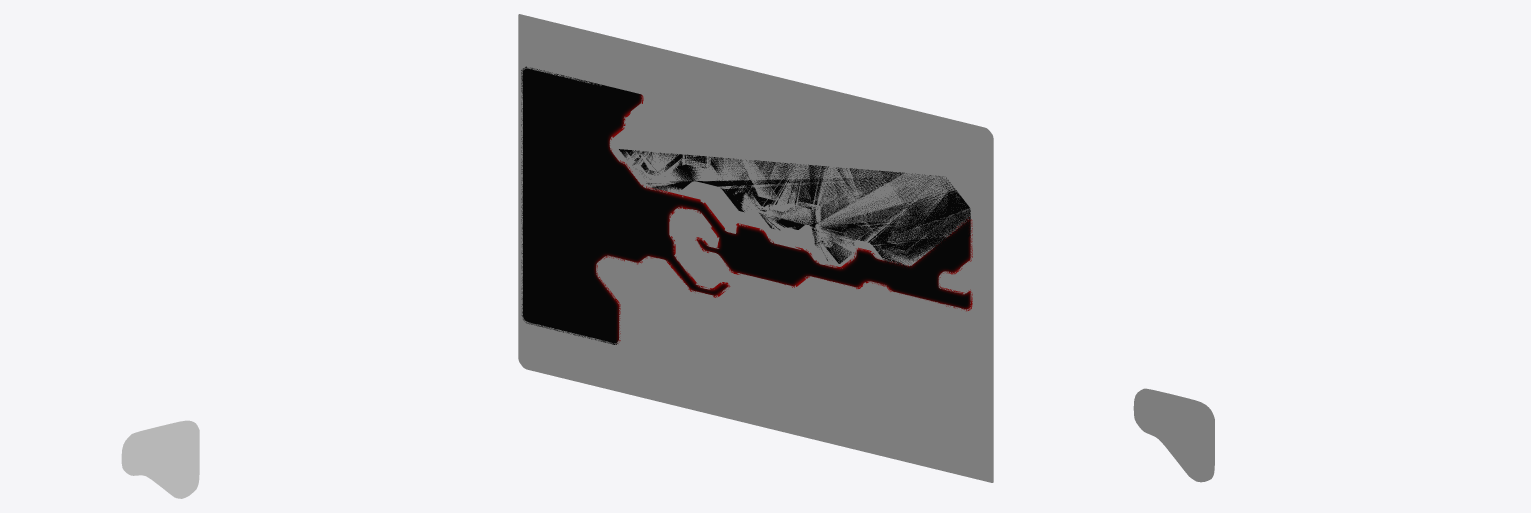
File: Vancouver.glb
3 renders of one model, left to right at view 1: azimuth 30°, elevation 25°; view 2: azimuth 150°, elevation 25°; view 3: azimuth 330°, elevation 25°, orthographic. The views are drawn at different scales.
Visible parts, largest first — view 1: MSH_Map_Grass_Middle_05 (1); view 2: Vancouver_land, Water, Vancouver_mount_mask, MSH_MAP_Vancouver_Mountain_Shadow, Vancouver_mount_top, Vancouver_grass, Vancouver_mount_bottom, MSH_Map_Grass_Middle_03; view 3: MSH_Map_Grass_Middle_05 (1).
Boxes of the visible parts, left/top/right/bottom form: MSH_Map_Grass_Middle_05 (1): left=121, top=420, right=199, bottom=498; Vancouver_land: left=518, top=14, right=993, bottom=482; Water: left=521, top=66, right=972, bottom=344; Vancouver_mount_mask: left=617, top=104, right=954, bottom=255; MSH_MAP_Vancouver_Mountain_Shadow: left=619, top=149, right=970, bottom=273; Vancouver_mount_top: left=632, top=115, right=947, bottom=245; Vancouver_grass: left=624, top=205, right=886, bottom=367; Vancouver_mount_bottom: left=617, top=104, right=955, bottom=256; MSH_Map_Grass_Middle_03: left=807, top=278, right=834, bottom=321; MSH_Map_Grass_Middle_05 (1): left=1133, top=388, right=1214, bottom=482.
Bounding box in the file's own units: 208 × 172 × 0.000466.
9 materials, 1 textured.
